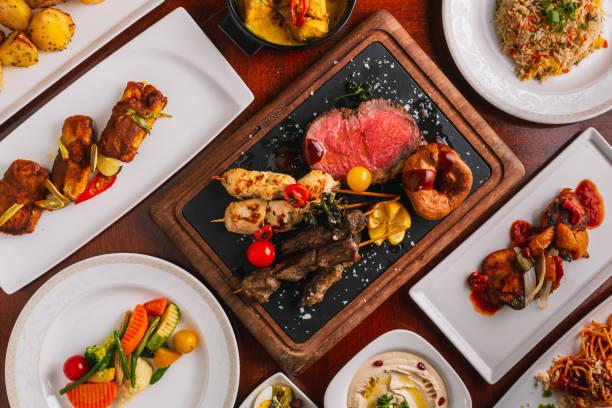Braised Crucian Carp: (202, 59, 470, 341), (3, 254, 236, 408), (442, 1, 611, 124)
